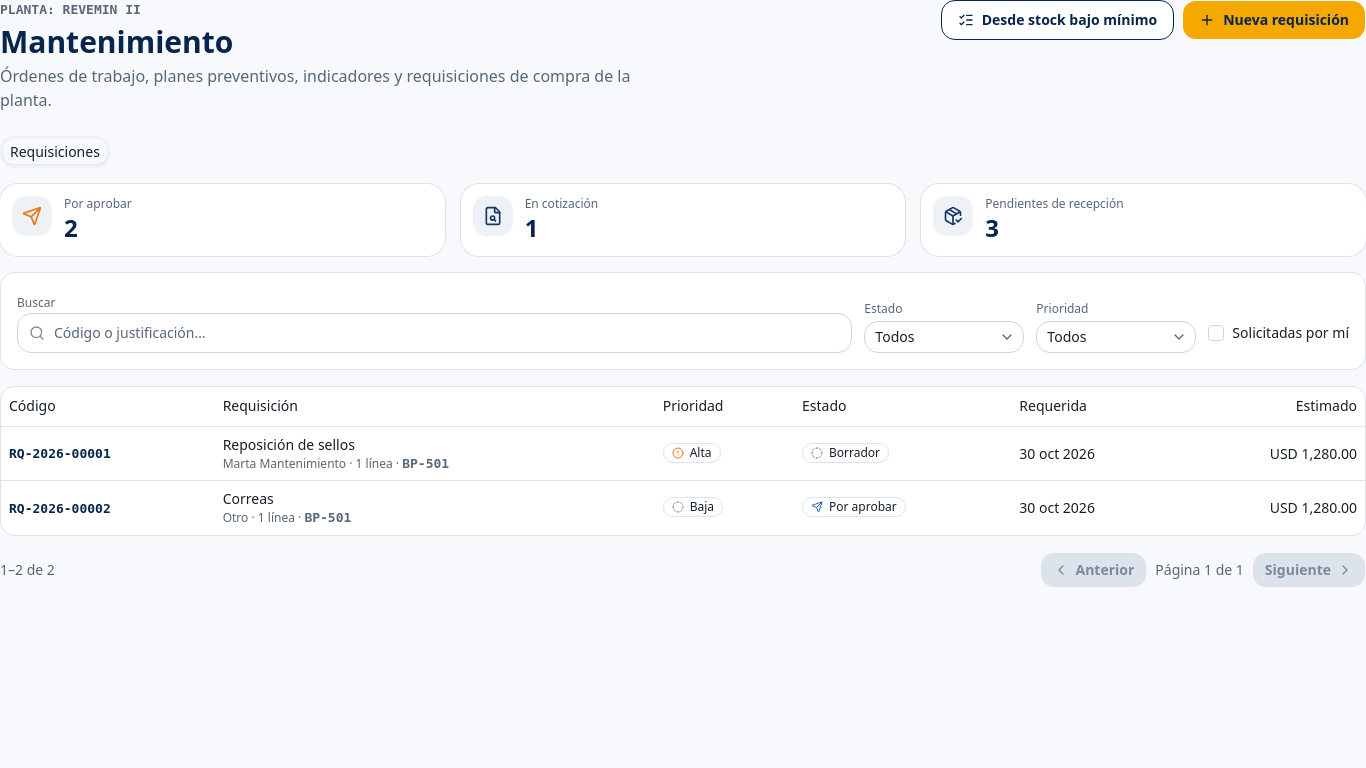
Scenario: Crear requisición › errores del servidor por línea aparecen bajo el campo
The width and height of the screenshot is (1366, 768).
Click the button "Nueva requisición" at (1274,20), box [1182,0,1365,40]
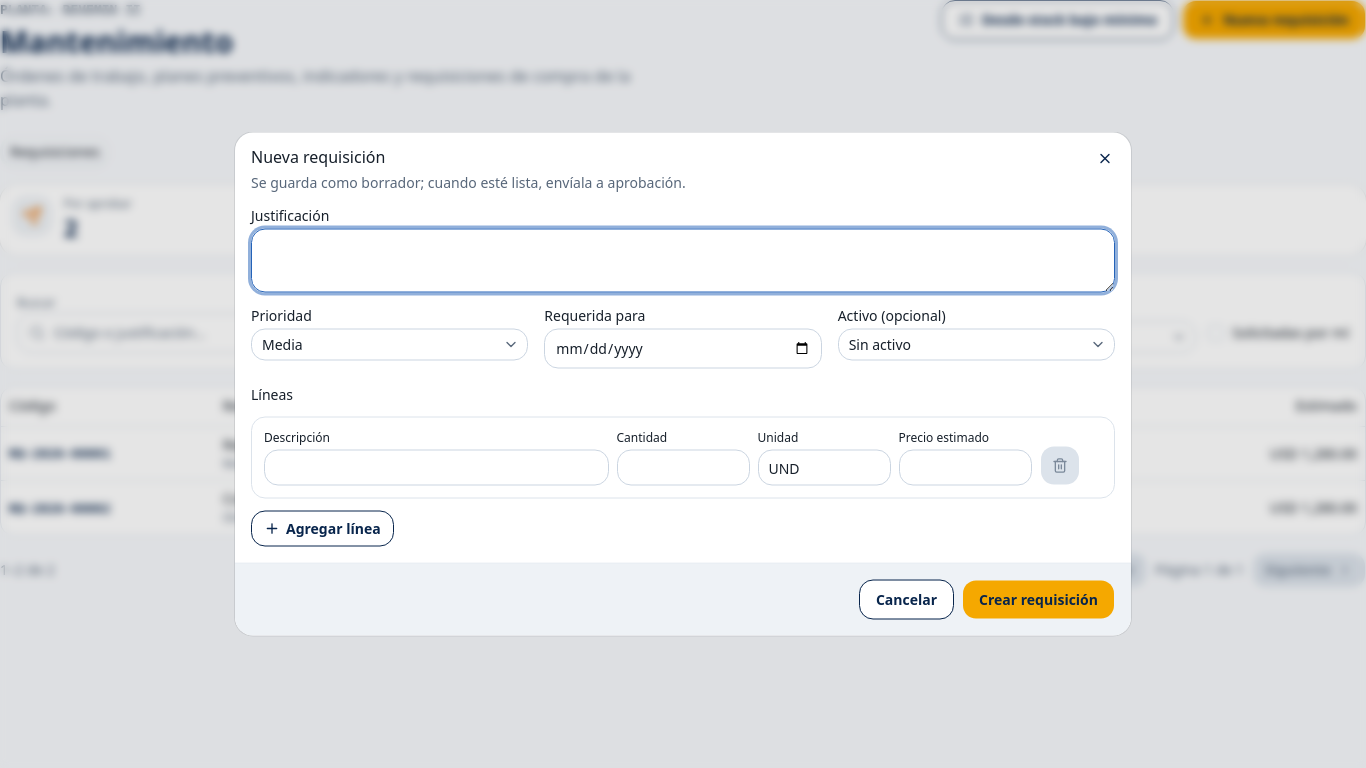
Type "Motivo válido" into the text box labelled "Justificación" at (683,260), box [251,228,1115,292]
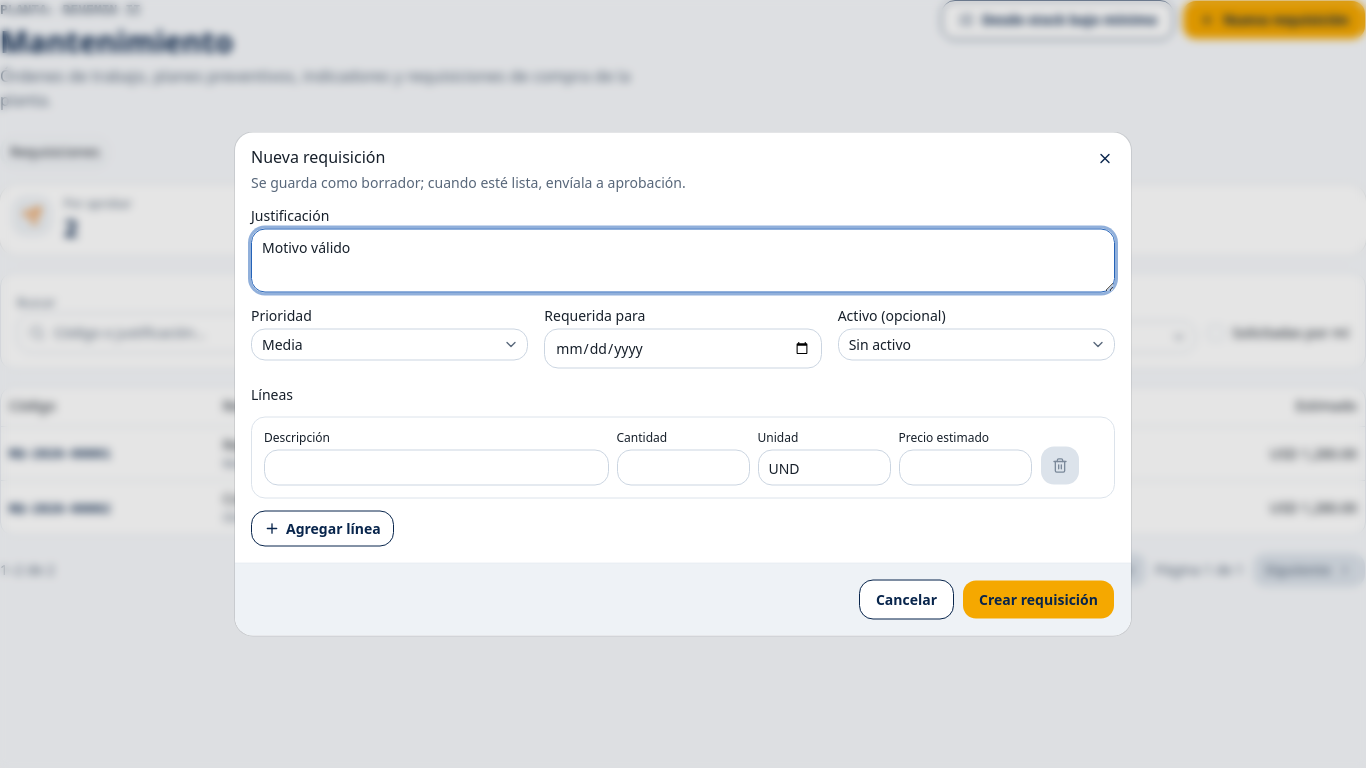
Type "X" into the field labelled "Descripción" at (436,468), box [264,450,608,486]
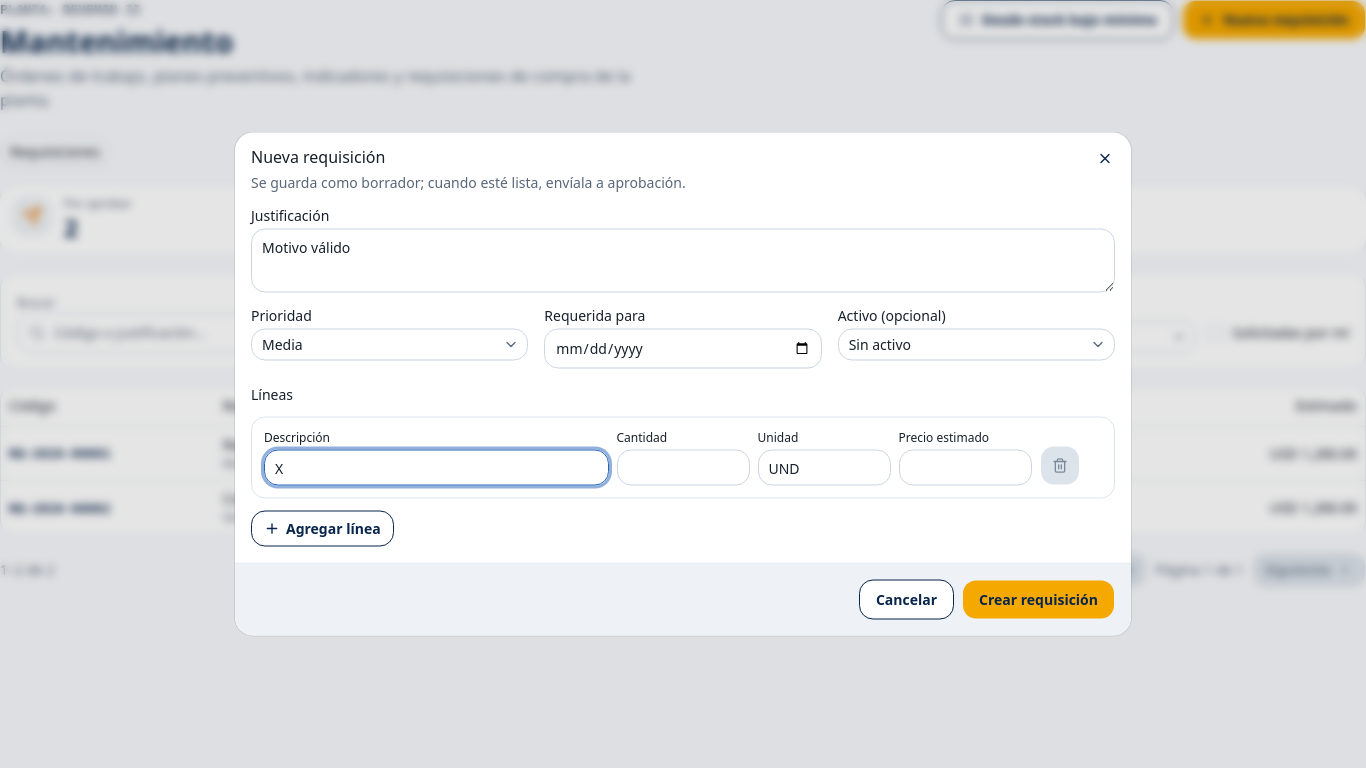
Type "1" into the number field labelled "Cantidad" at (683,468), box [616,450,750,486]
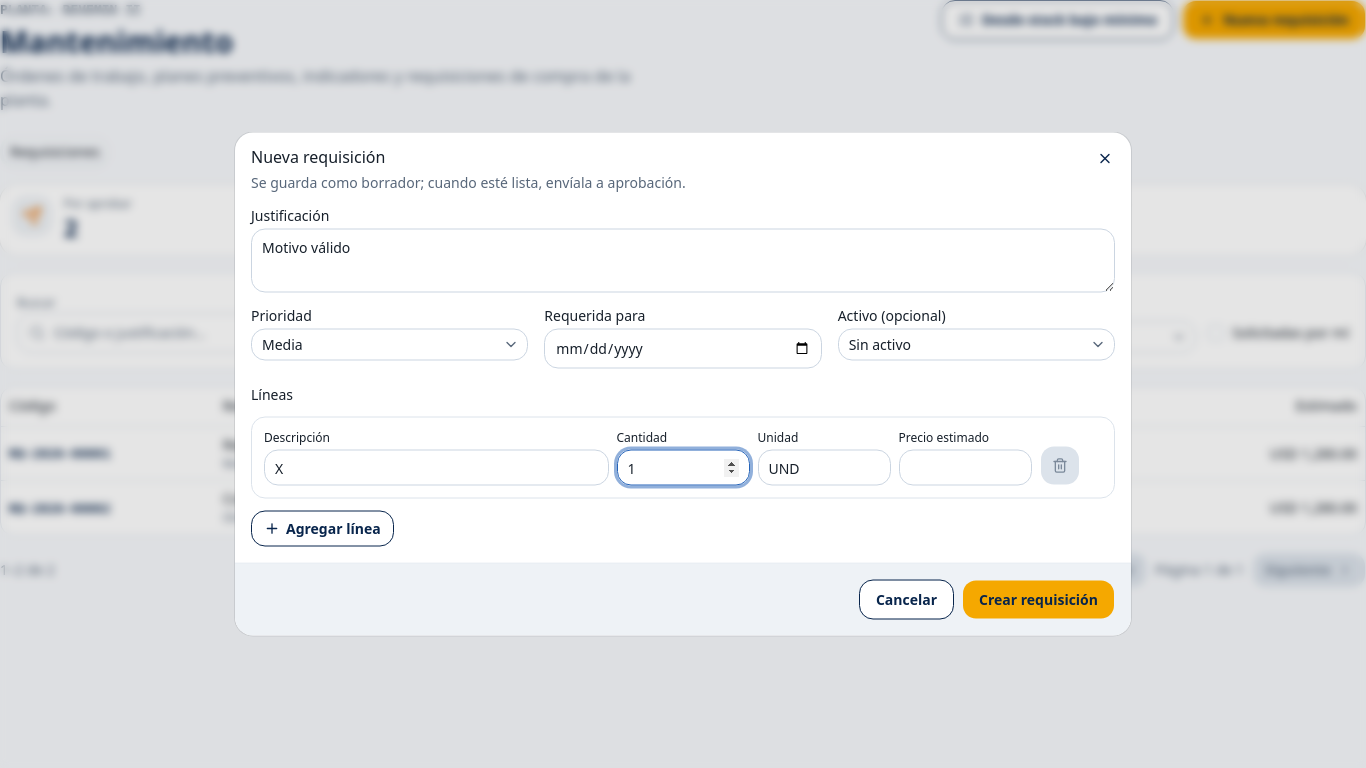
Click the button "Crear requisición" at (1038,600), box [962,580,1115,620]
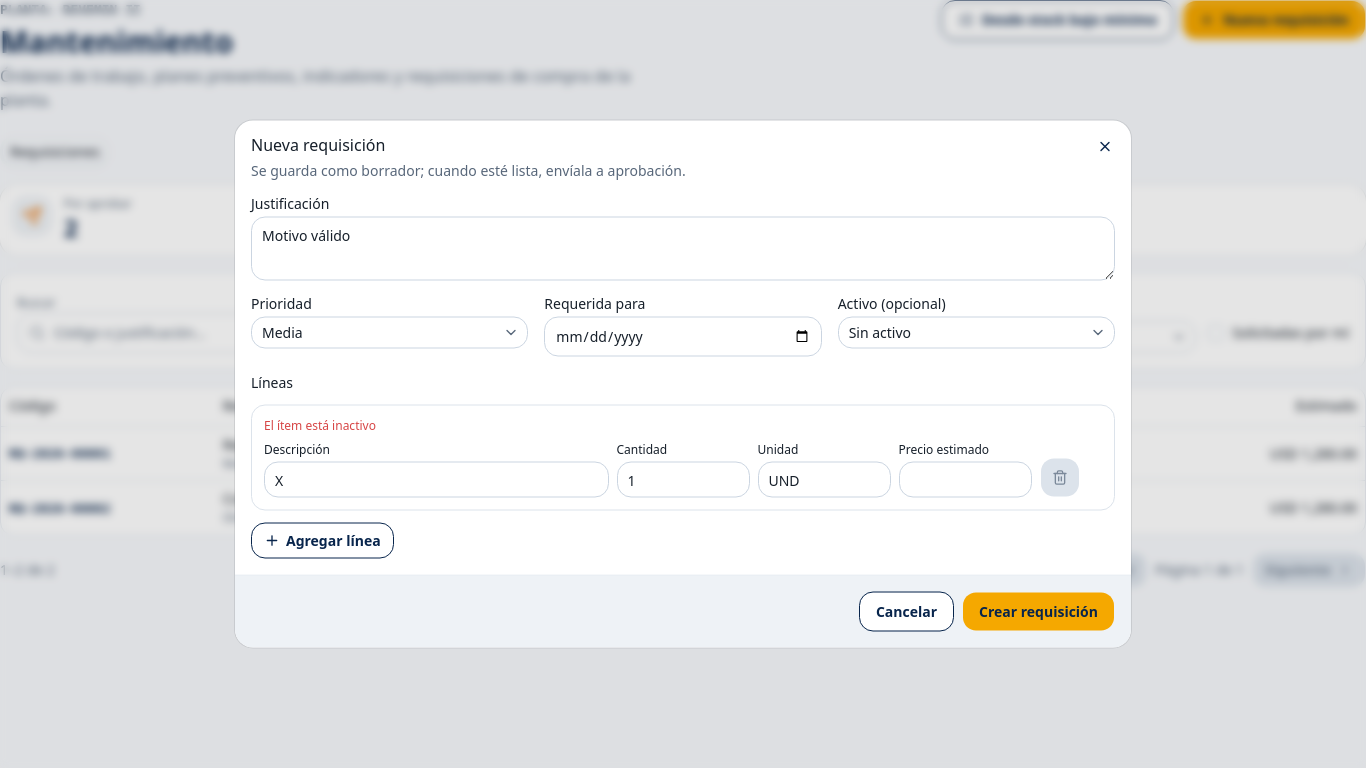
Expected: the text "El ítem está inactivo" is shown, [264,416,376,434]
